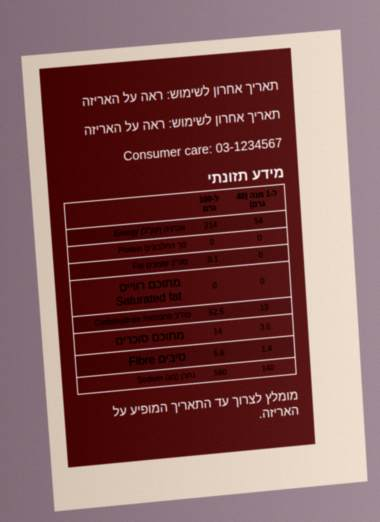carbs: (207, 306, 225, 318)
energy: (203, 219, 218, 231)
fat: (206, 253, 220, 265)
protein: (208, 237, 215, 248)
